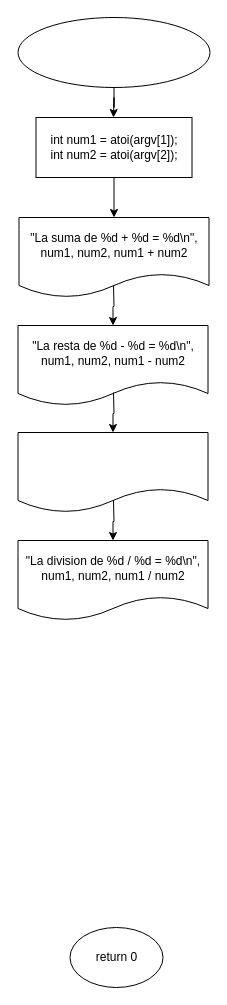
Some shapes in this 227 by 1005 pixel diagram are drawn without their labels. Here are the shapes that lost their labels. From the top down, the centre of each, then its label:
pixel 113 52: void argumentos(char *argv[])
pixel 112 472: "La multiplicacion de %d * %d = %d\n", num1, num2, num1 * num2
